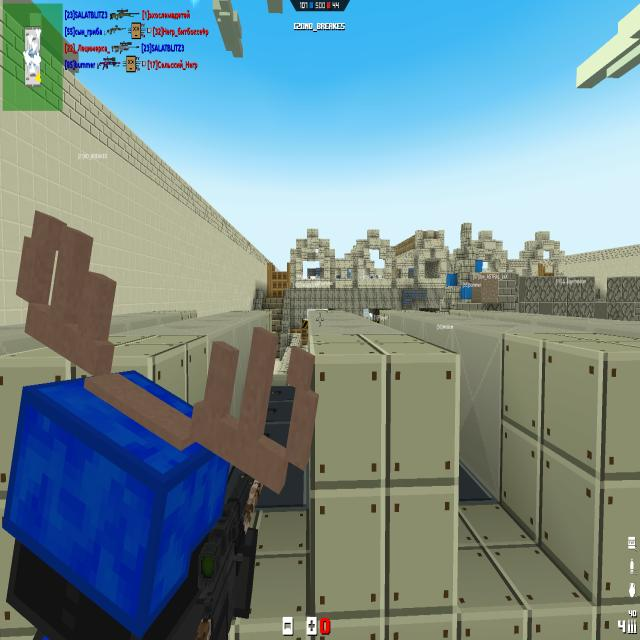player: (2, 375, 235, 640)
